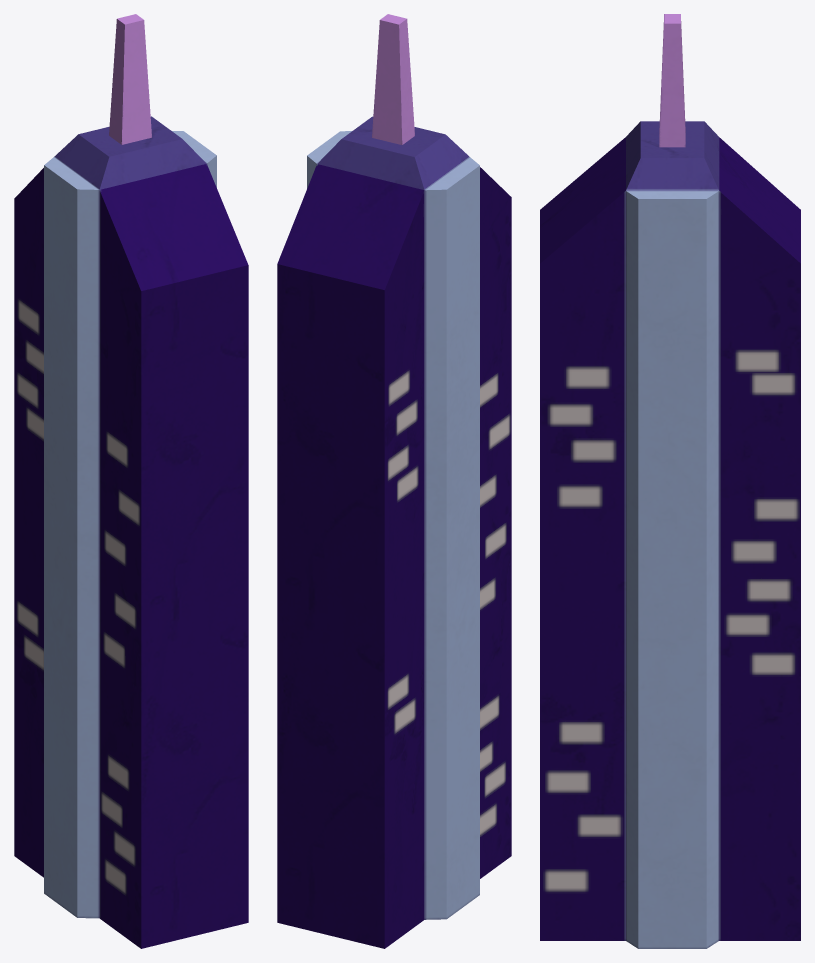
File: Building1.fbx
3 views of the same model, side by side, from view 1: azimuth 30°, elevation 25°; view 2: azimuth 150°, elevation 25°; view 3: azimuth 270°, elevation 25° (orthographic). The views are drawn at different scales.
Visible parts, largest first — view 1: pCube1; view 2: pCube1; view 3: pCube1.
Boxes of the visible parts, bbox=[...] form: pCube1: bbox=[14, 14, 248, 948]; pCube1: bbox=[277, 14, 511, 948]; pCube1: bbox=[540, 14, 800, 948].
Size of the model in its own units: 1.3 by 7.74 by 2.05.
